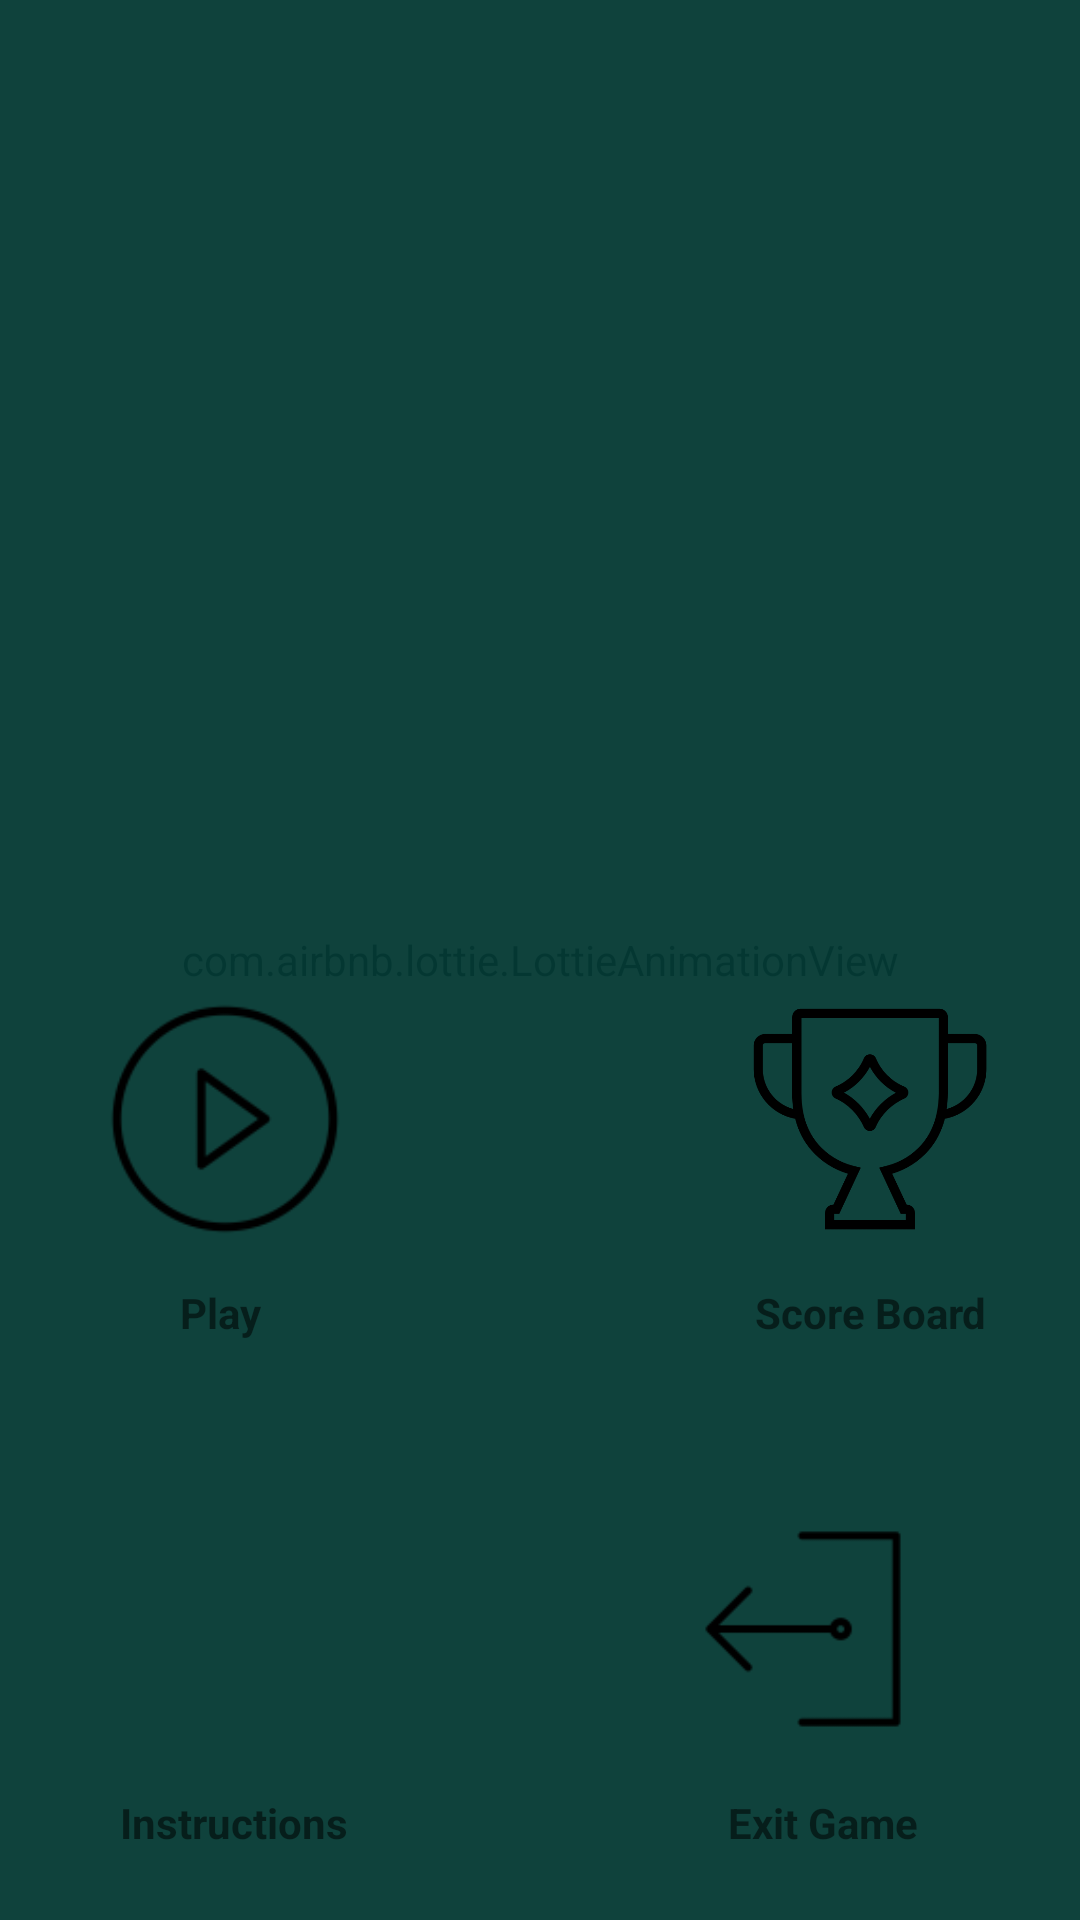

Where icons sit on this 1080 x 1920 app screen, as (x1, y1, x2, y2):
exitt: (706, 1531, 901, 1727)
